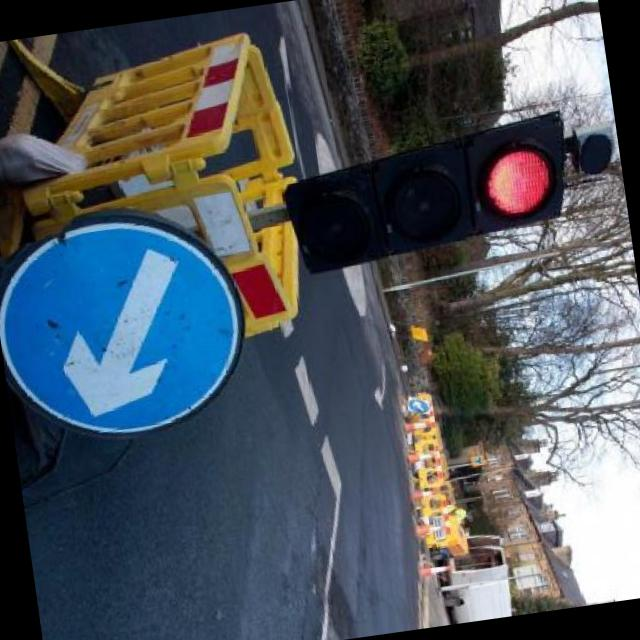red-lights: (456, 112, 576, 246)
